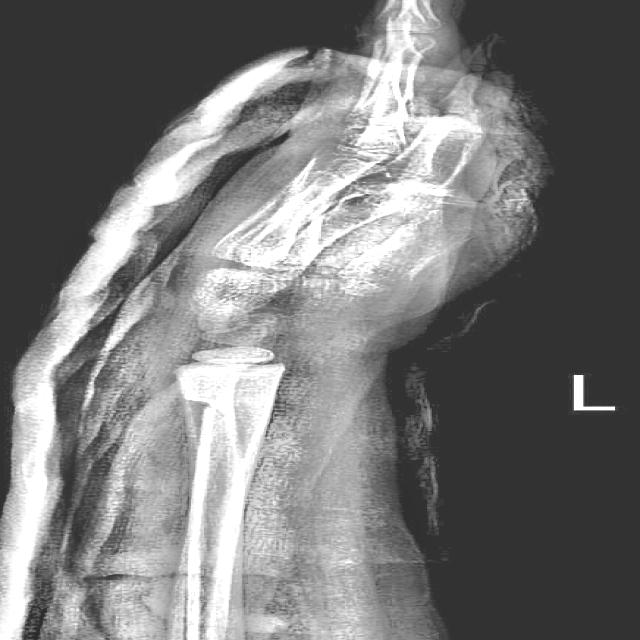line: (182, 398, 228, 427)
